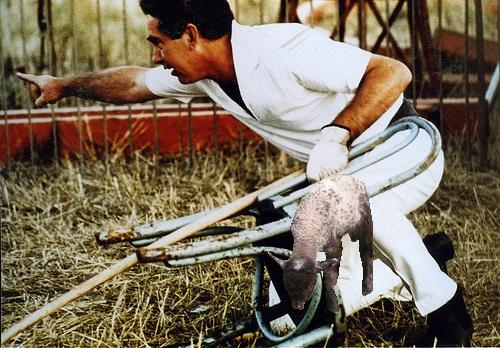tampered: (269, 175, 373, 312)
